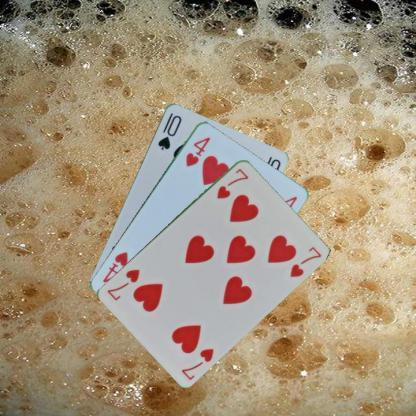10s: (154, 110, 182, 152)
4h: (182, 134, 212, 168)
7h: (178, 344, 215, 382), (214, 165, 250, 200)
